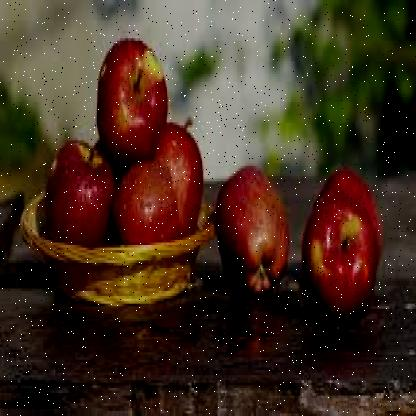apple: (212, 171, 288, 293), (300, 199, 378, 311), (40, 140, 110, 244), (101, 46, 168, 153), (151, 118, 206, 222), (113, 164, 171, 242)
